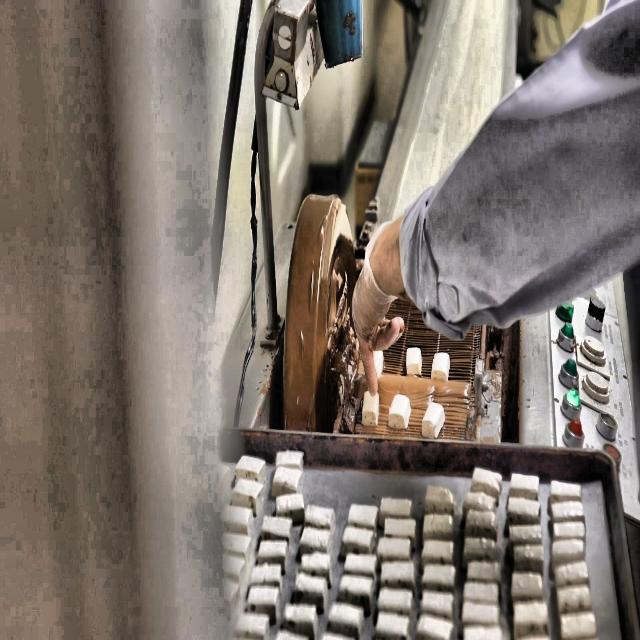gloved: (348, 213, 405, 393)
